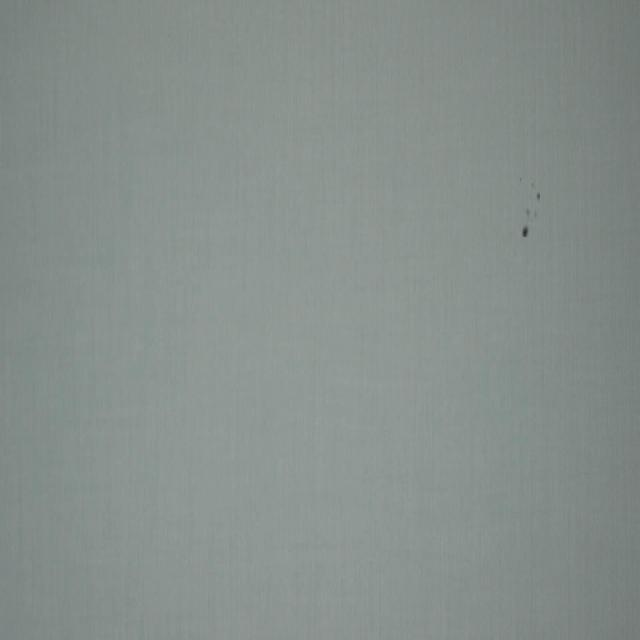dirty: (530, 180, 542, 202), (524, 208, 539, 220), (522, 224, 528, 240)
